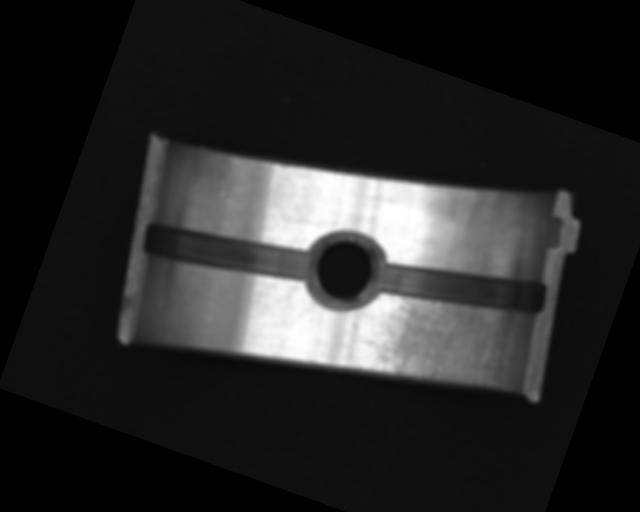gap: (372, 228, 553, 347), (136, 198, 311, 305)
hole: (300, 226, 393, 314)
scratch: (356, 268, 540, 418)
